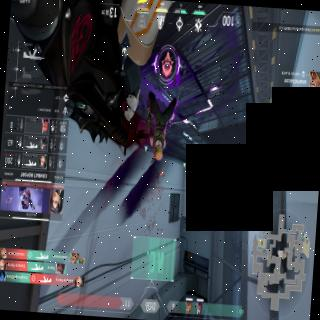ENEMY-HEAD: (152, 144, 164, 162)
